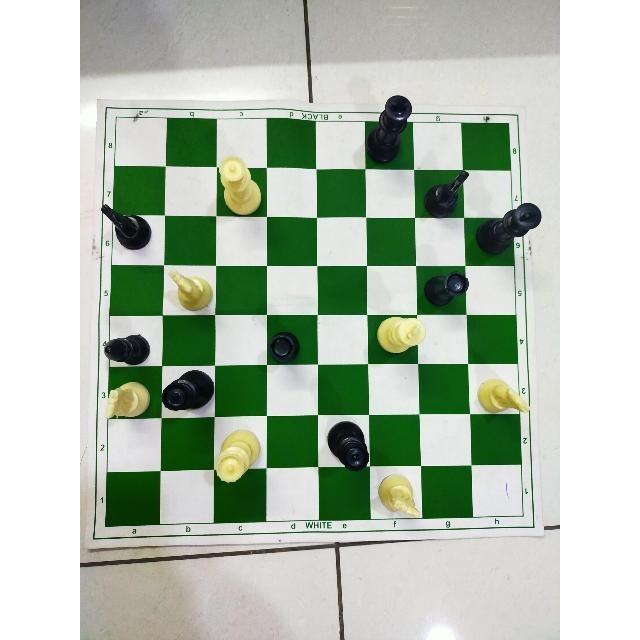black-bishop: (103, 333, 150, 365)
black-king: (475, 200, 543, 258), (364, 92, 412, 164)
black-knight: (100, 201, 152, 251), (422, 168, 470, 216)
black-queen: (160, 369, 216, 412), (326, 419, 370, 473)
black-rook: (422, 269, 469, 308), (267, 330, 300, 364)
white-king: (376, 314, 426, 355)
white-knight: (377, 473, 421, 521), (166, 267, 213, 311), (476, 377, 531, 414), (104, 380, 152, 420)
white-queen: (217, 152, 263, 216), (215, 429, 261, 485)
